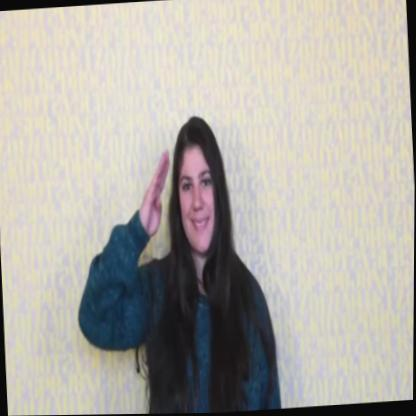Hello: (114, 99, 247, 299)
